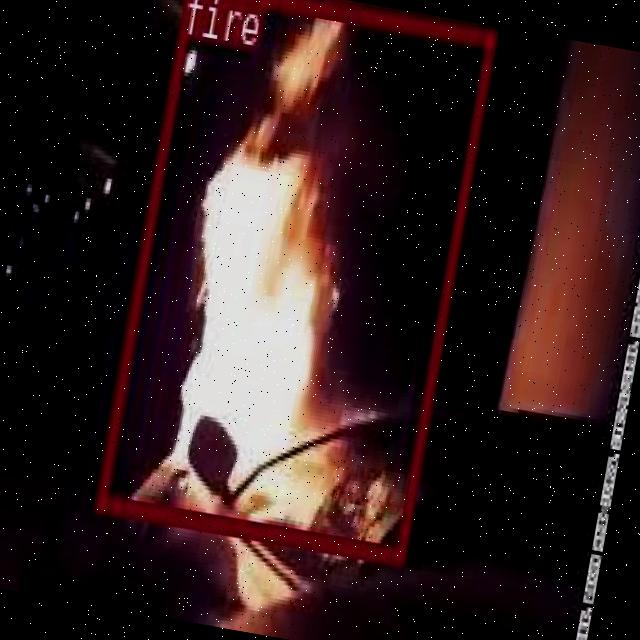fire: (93, 0, 495, 561)
